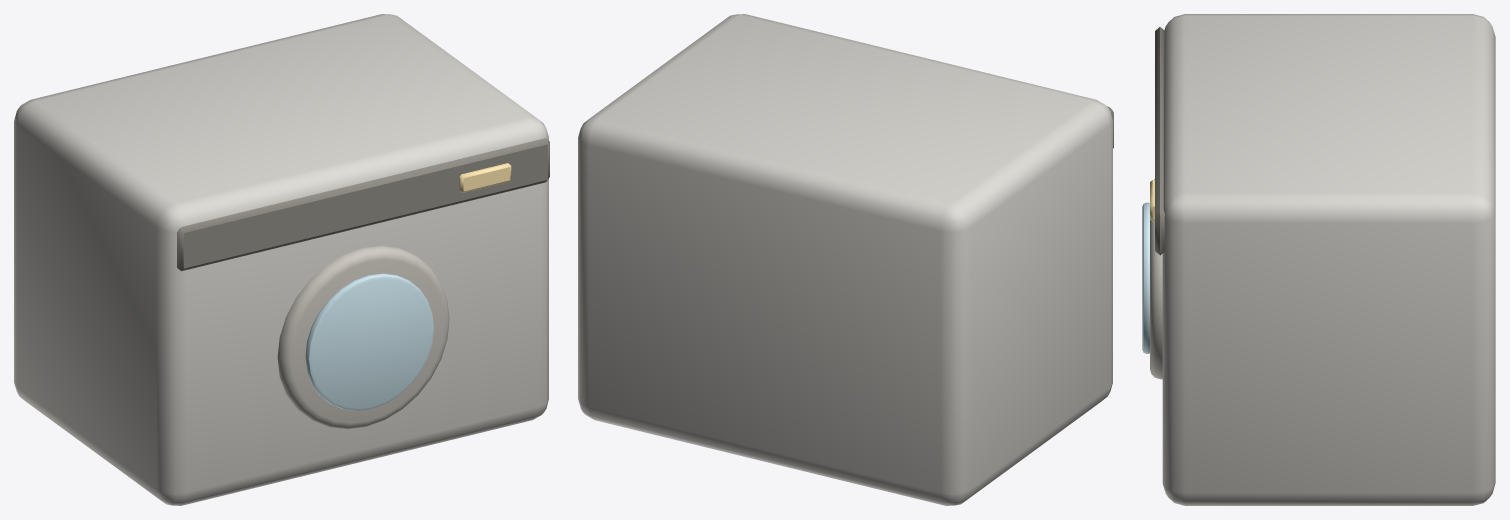
File: washing_machine.glb
The picture shows the model from 3 angles, left to right: view 1: azimuth 30°, elevation 25°; view 2: azimuth 150°, elevation 25°; view 3: azimuth 270°, elevation 25°; orthographic projection. The views are drawn at different scales.
Visible parts, largest first — view 1: white, steel_dark, glass, steel, light; view 2: white; view 3: white, steel_dark, steel, glass.
Part boxes in pixels (x1=…): white: x1=14, y1=14, x2=548, y2=505; steel_dark: x1=177, y1=138, x2=549, y2=271; glass: x1=305, y1=273, x2=433, y2=410; steel: x1=277, y1=245, x2=449, y2=429; light: x1=459, y1=163, x2=511, y2=192; white: x1=578, y1=14, x2=1112, y2=505; white: x1=1162, y1=14, x2=1495, y2=505; steel_dark: x1=1155, y1=27, x2=1164, y2=255; steel: x1=1150, y1=179, x2=1162, y2=379; glass: x1=1142, y1=202, x2=1149, y2=353.
Size of the model in its own units: 0.92 by 0.68 by 0.7.
